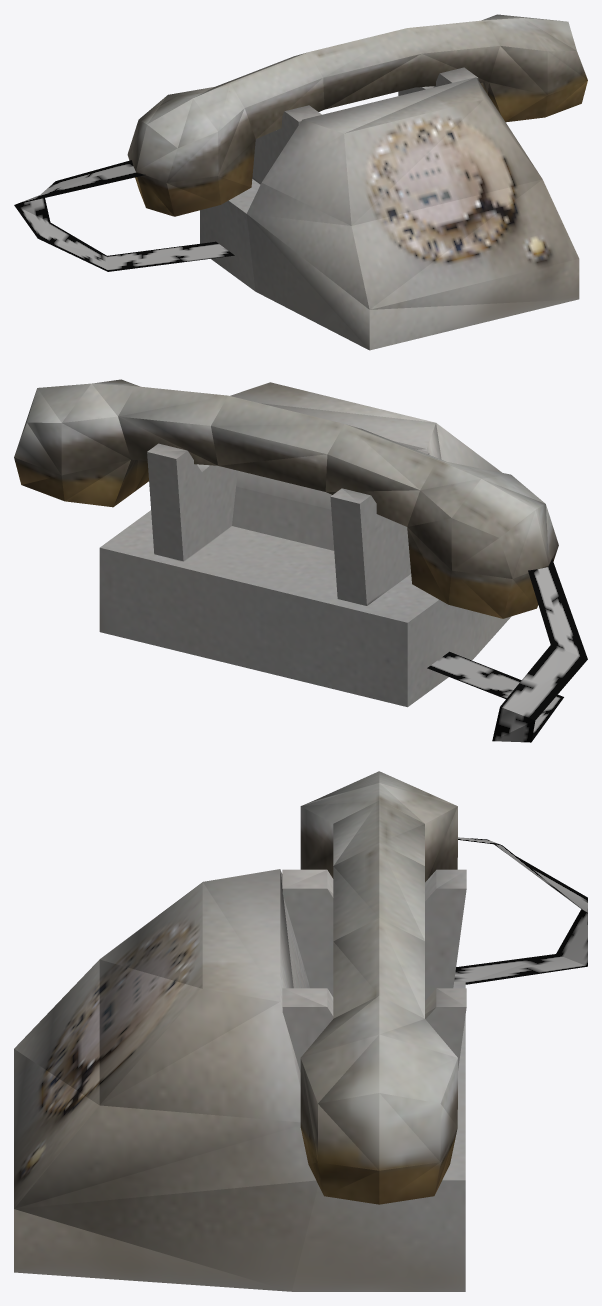
Rendered from telefone.glb.
3 views of the same model, one above another, from view 1: azimuth 30°, elevation 25°; view 2: azimuth 150°, elevation 25°; view 3: azimuth 270°, elevation 25° (orthographic). The views are drawn at different scales.
Parts seen in each view (by area): view 1: telefone; view 2: telefone; view 3: telefone.
Part boxes in pixels (left/top/right/bottom): telefone: left=14, top=14, right=587, bottom=350; telefone: left=14, top=379, right=587, bottom=742; telefone: left=14, top=771, right=587, bottom=1291.
Bounding box in the file's own units: 0.3219 × 0.12 × 0.2001.
1 material, 1 textured.
